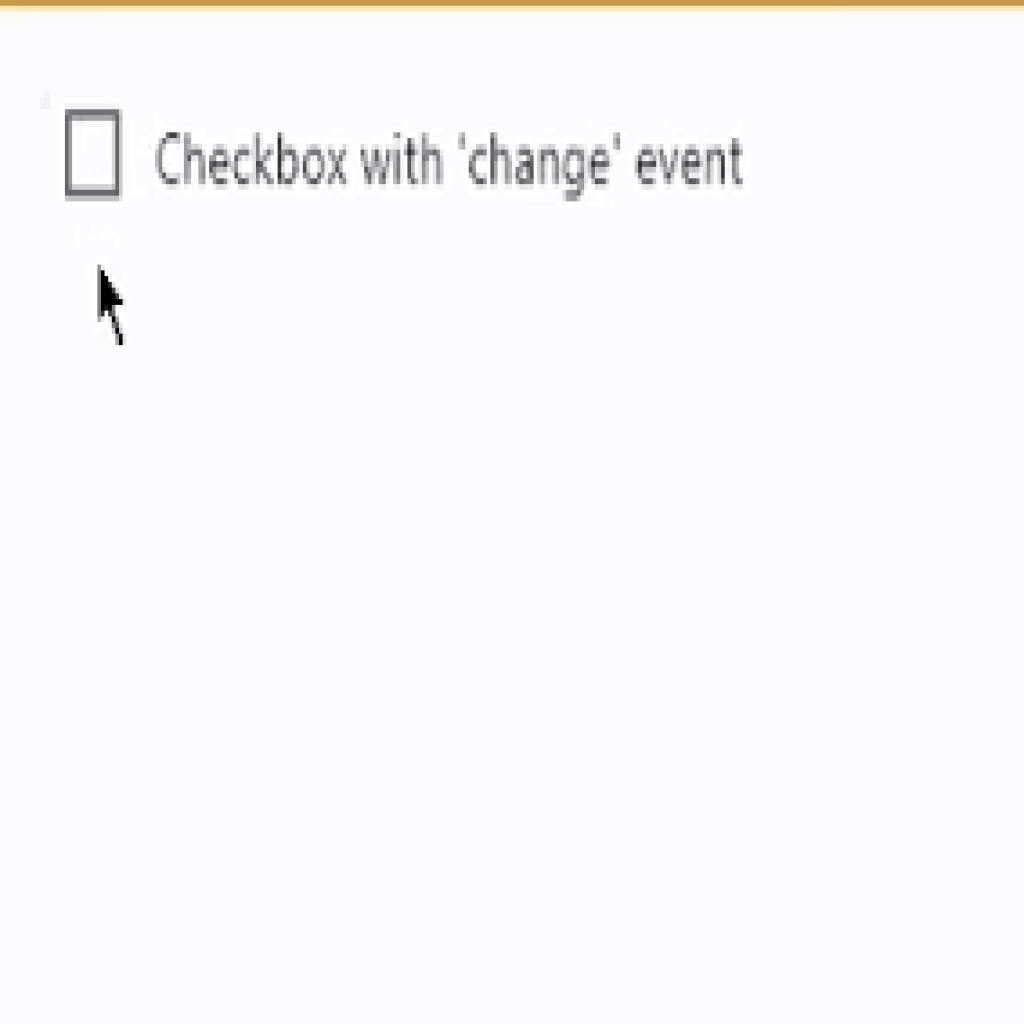checkbox: (66, 111, 117, 198)
label: (157, 132, 754, 196)
